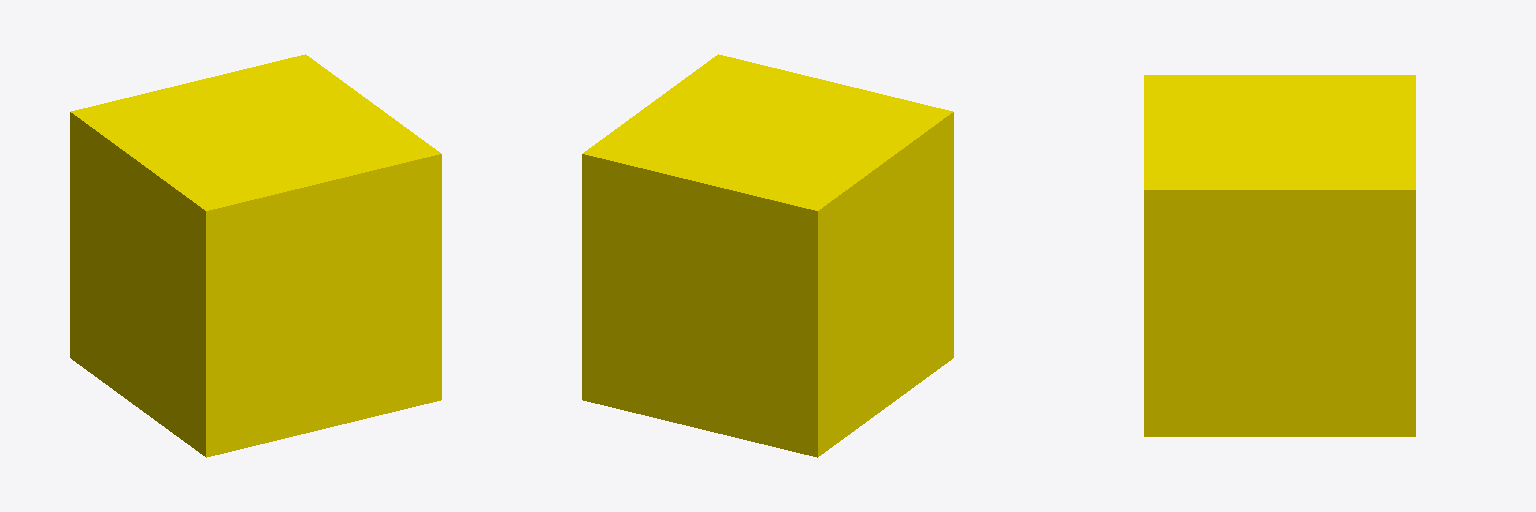
The picture shows the model from 3 angles: view 1: azimuth 30°, elevation 25°; view 2: azimuth 150°, elevation 25°; view 3: azimuth 270°, elevation 25°; orthographic projection.
Parts seen in each view (by area): view 1: Cube; view 2: Cube; view 3: Cube.
Part boxes in pixels (x1,y1,x2,y2): Cube: (70,54,441,457); Cube: (582,54,953,457); Cube: (1144,75,1415,436).
Bounding box in the file's own units: 2 × 2 × 2.
1 materials, 1 textured.